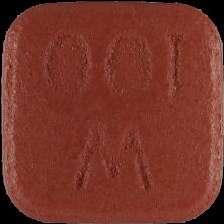0008-1222: (0, 0, 224, 224)
